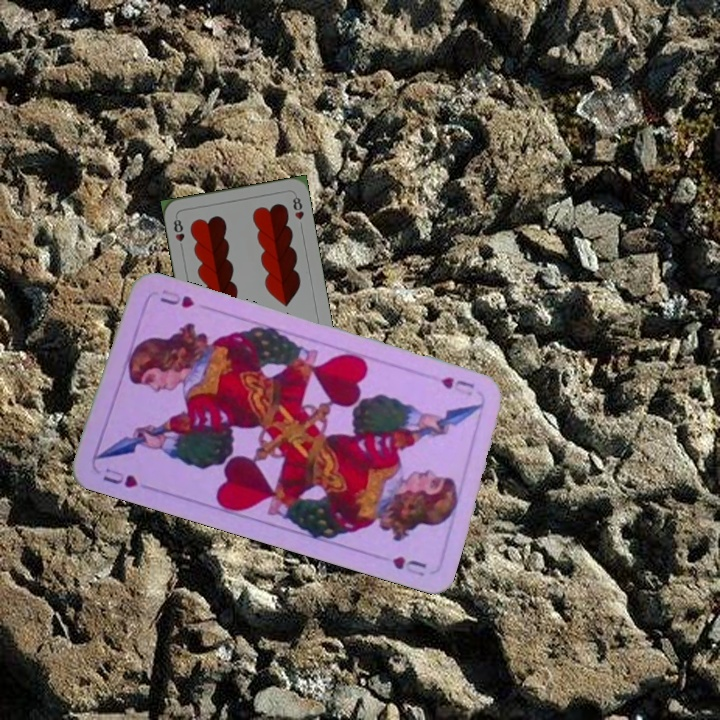H8: (170, 213, 187, 253)
HU: (98, 463, 141, 491), (437, 372, 477, 394)
